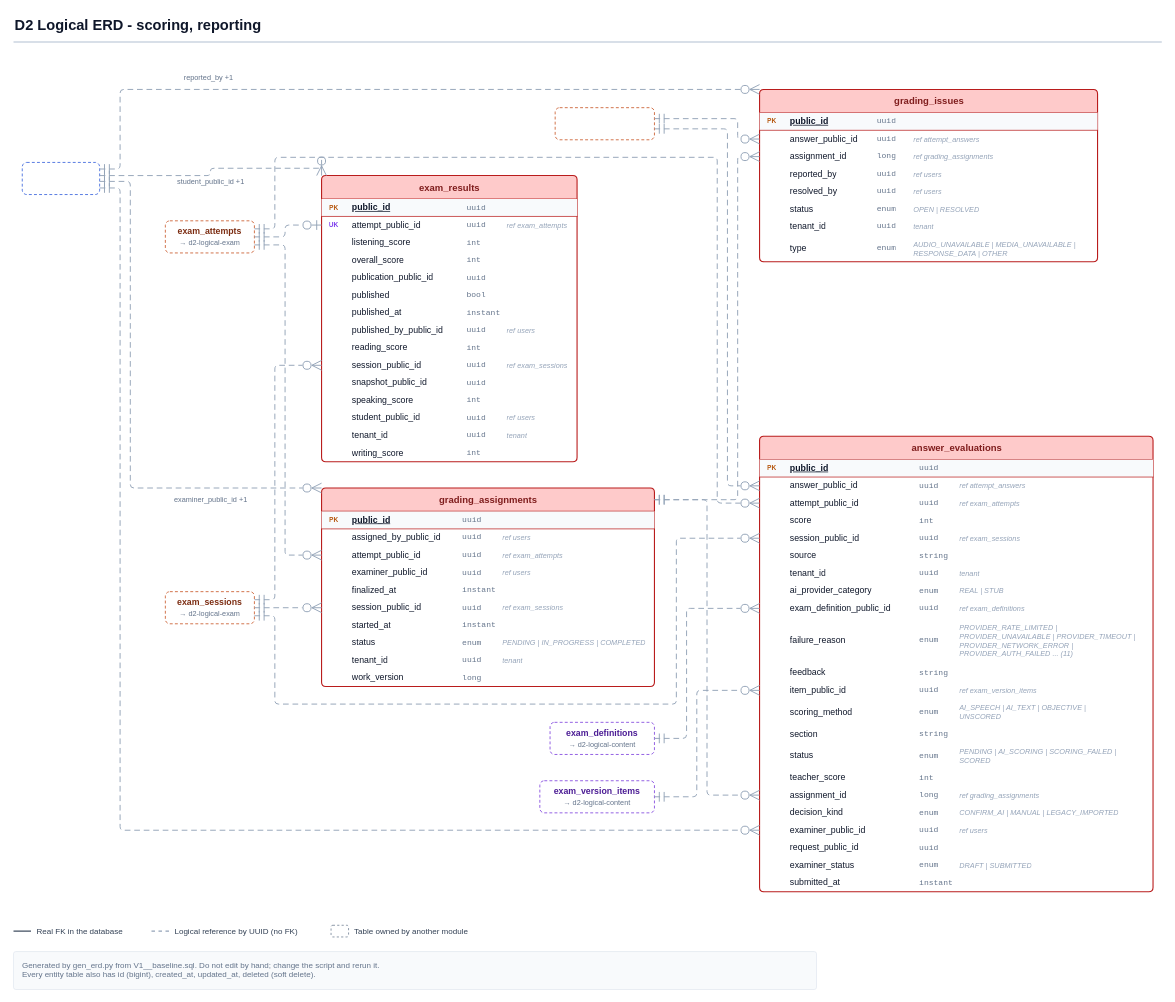
Some shapes in this 1175 by 1002 pixel diagram are drawn without their labels. The centre of each missing label's shape, as x and y in pixels:
"attempt_answers → d2-logical-exam" goes at point (604, 123).
"users → d2-logical-org" goes at point (61, 178).
